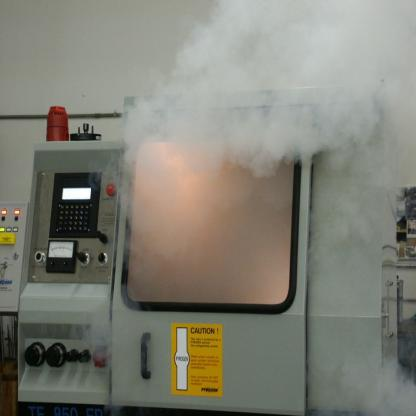smoke: (107, 0, 416, 333)
